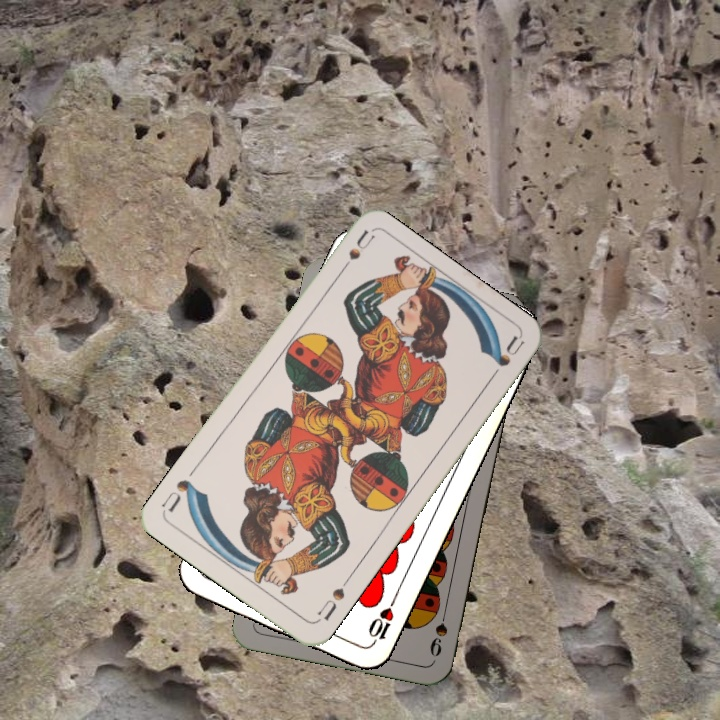H10: (364, 593, 399, 649)
S9: (425, 602, 450, 659)
SU: (332, 227, 376, 281), (313, 573, 353, 624)
